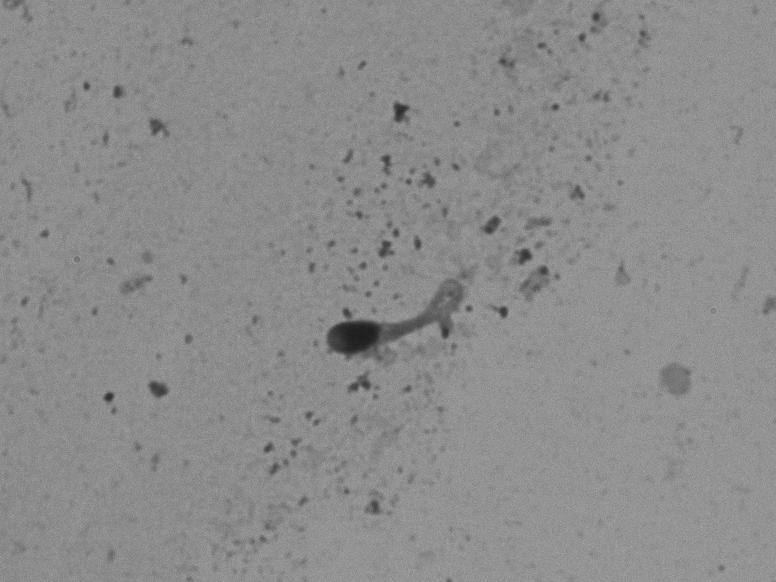Abnormal: (309, 253, 505, 385)
